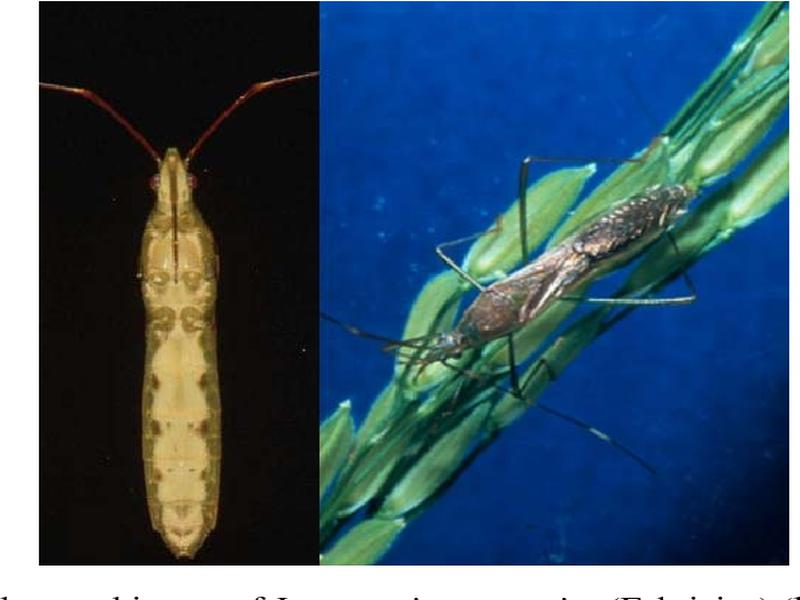Rice_earhead_bug: (387, 160, 724, 402), (106, 140, 250, 556)
